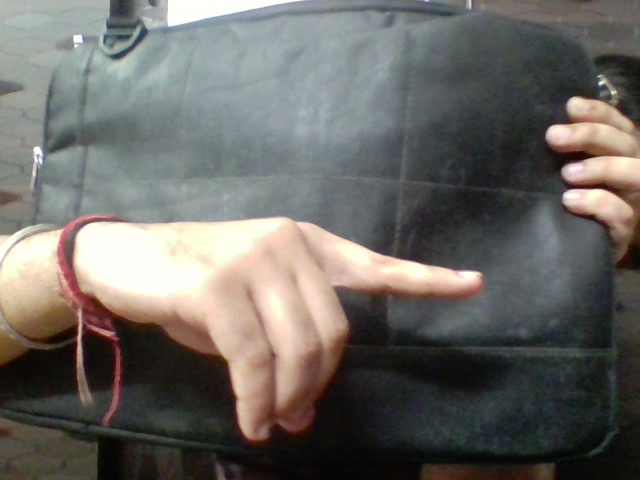p: (134, 191, 495, 441)
